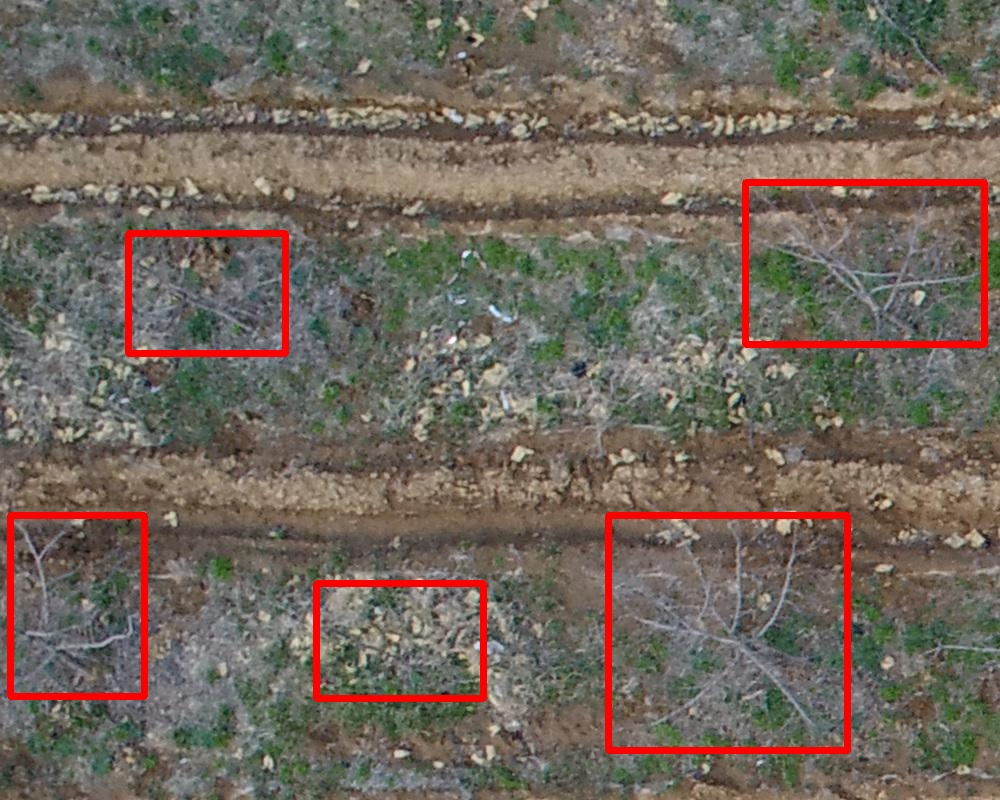apple: (608, 515, 847, 750), (745, 182, 984, 344), (10, 515, 144, 696), (316, 583, 483, 698), (128, 233, 285, 353)
